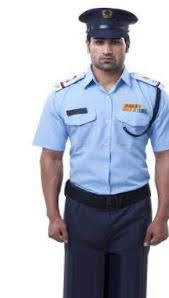uniform: (35, 3, 169, 281)
